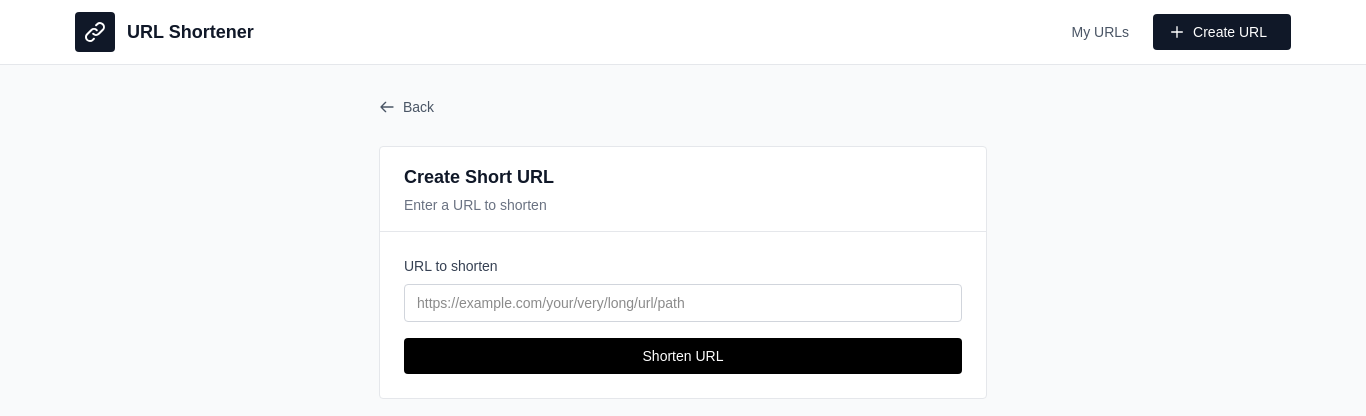
Test: CreatePage Component › disables submit button while loading
Type "https://example.com" into the field with placeholder "https://example.com/your/very/long/url/path".
click(683, 303); type("https://example.com")  # box [404, 284, 962, 322]
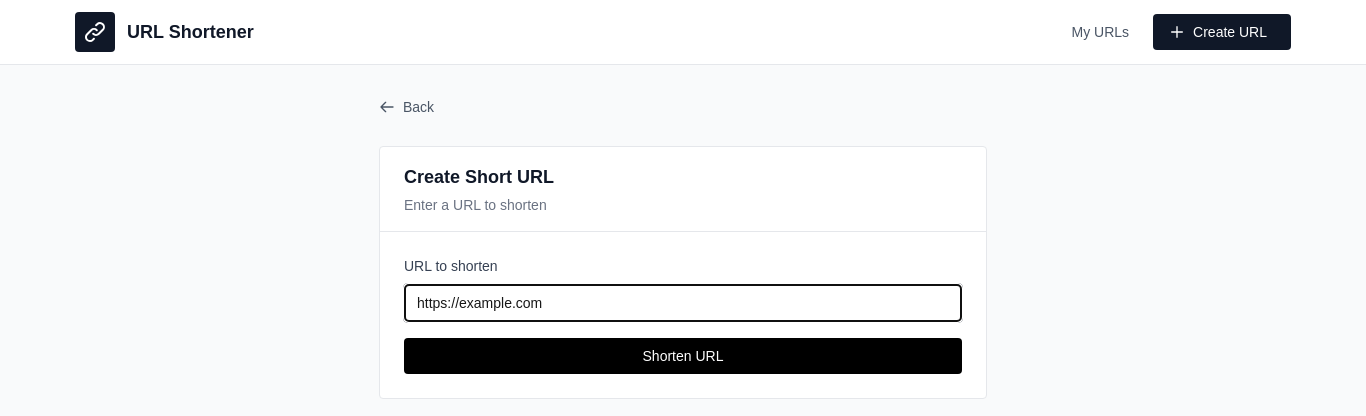
Click the button "Shorten URL".
click(683, 356)  # box [404, 338, 962, 374]
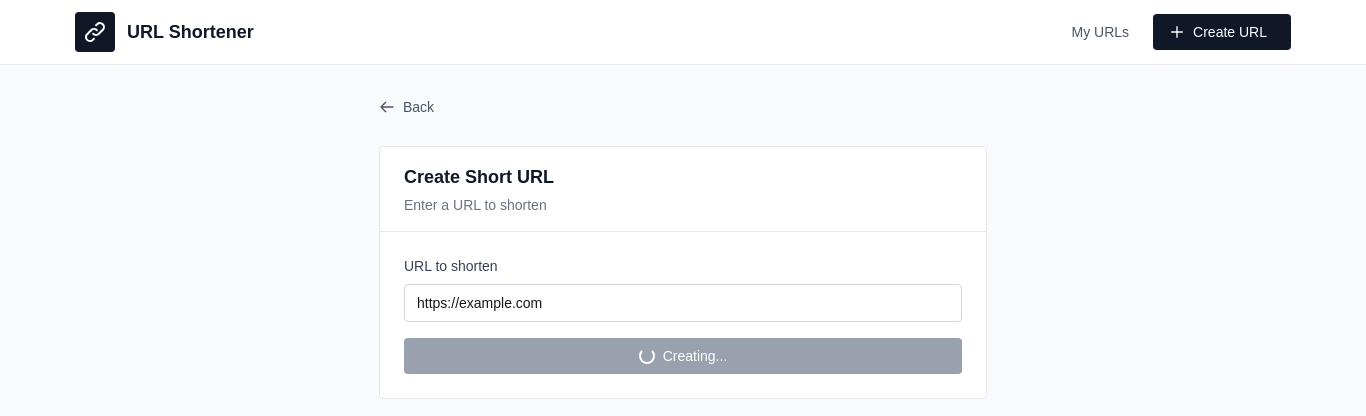
Expected: the button named "Shorten URL" is disabled, [404, 338, 962, 374]
